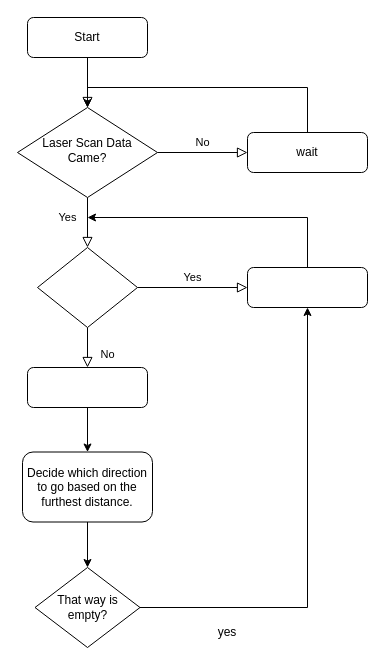
This 385x665 diagram has some shape labels left out. Each missing label, with the box of its shape:
Go Forward: (246, 266, 368, 308)
Stop: (26, 366, 148, 408)
The Front is empty?: (36, 246, 138, 328)
